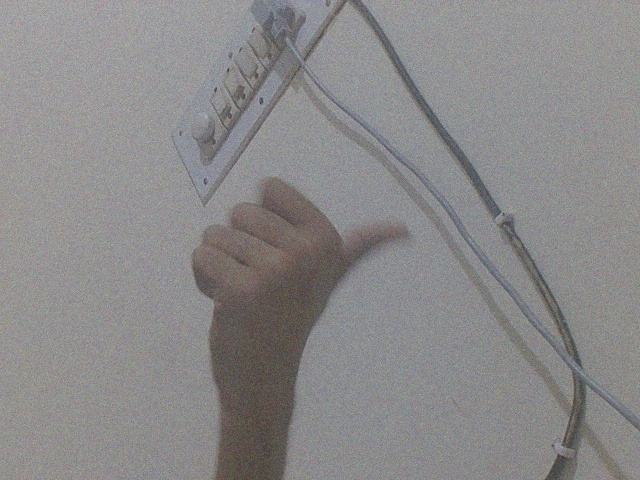hand: (186, 168, 417, 422)
